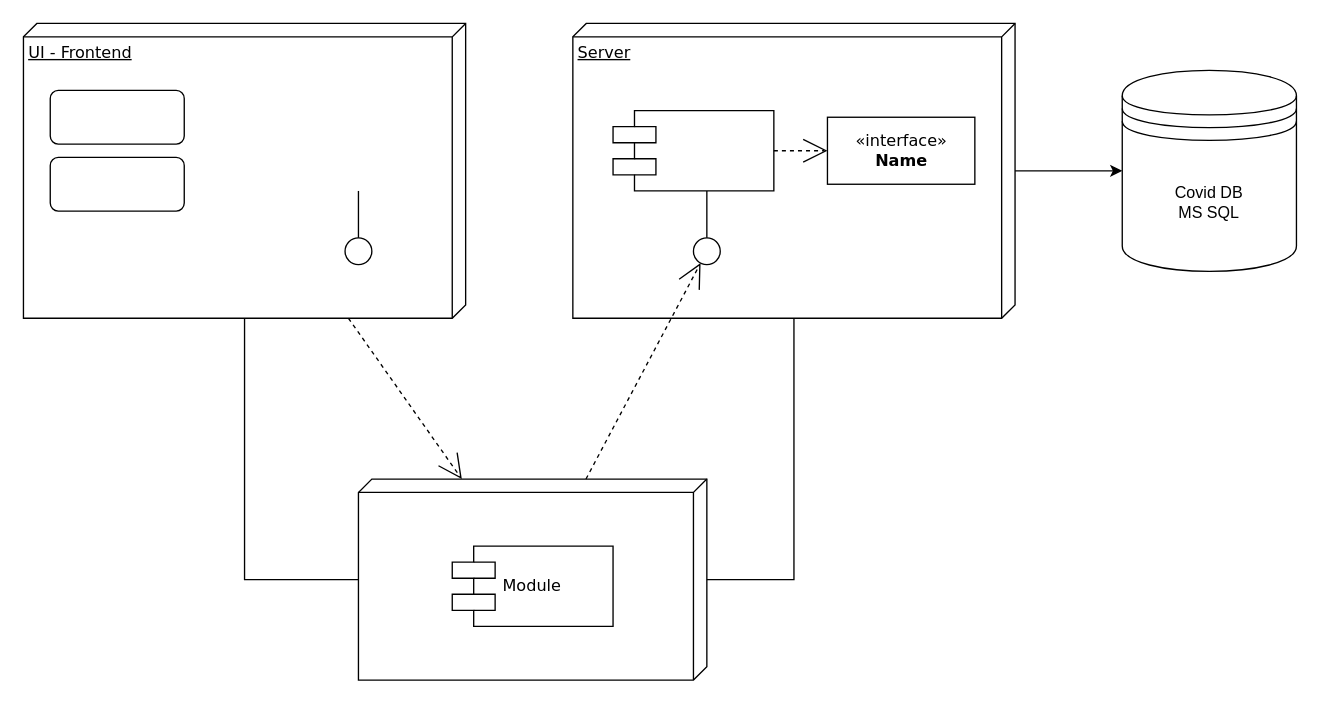
The diagram is 1320 pixels wide and 704 high, and some of its shapes have lost their labels. The shapes that lost their labels are listed below. From the top down, each one's box as (x1, y1, x2, y2) in pixels, then its label:
(612, 109, 774, 191): BL
(357, 478, 707, 680): API
